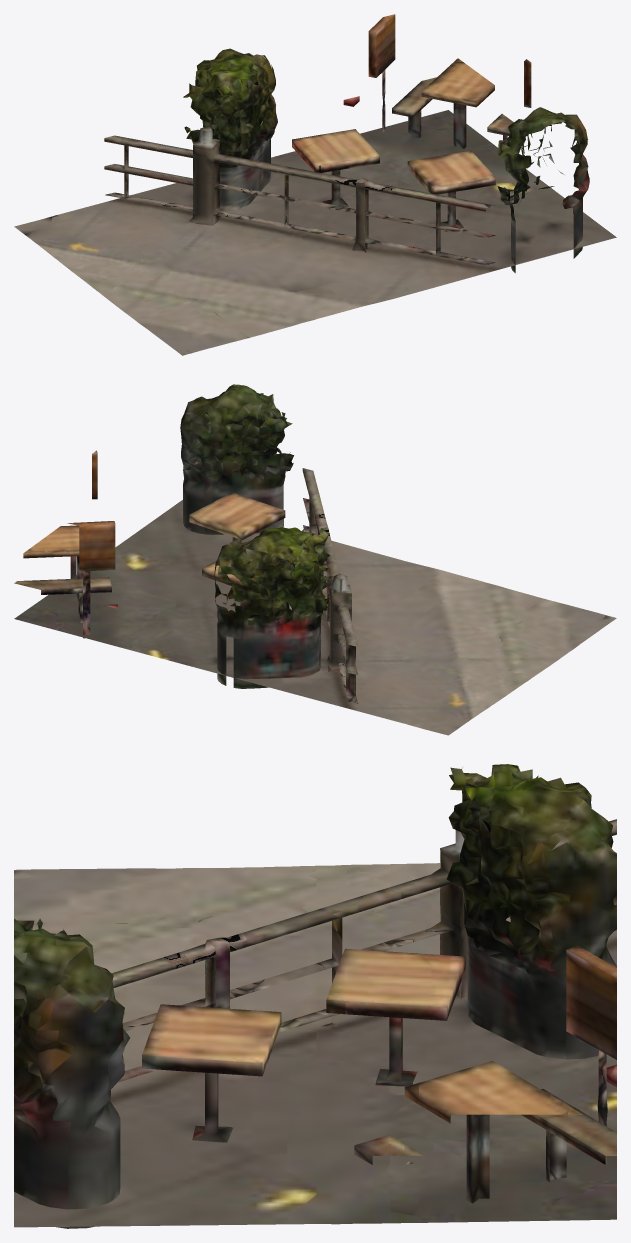
3 views of the same model, one above another, from view 1: azimuth 30°, elevation 25°; view 2: azimuth 150°, elevation 25°; view 3: azimuth 270°, elevation 25° (orthographic). The views are drawn at different scales.
Size of the model in its own units: 6.42 by 2.07 by 4.31.
Materials: 1 (1 with a texture image).
